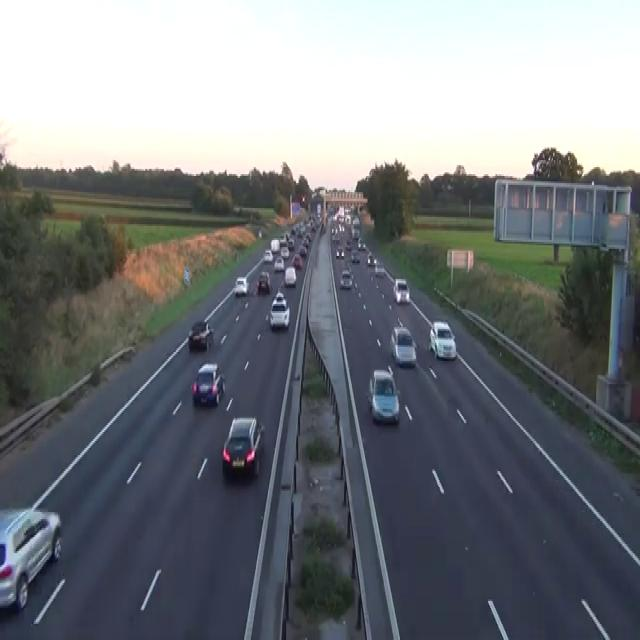Car: (0, 505, 62, 611), (221, 414, 264, 476), (367, 368, 399, 423), (191, 361, 225, 405), (428, 320, 456, 359), (390, 326, 417, 366), (187, 320, 214, 350), (269, 299, 290, 329), (392, 277, 409, 304), (257, 270, 271, 294), (234, 276, 249, 295), (339, 268, 352, 288), (272, 290, 286, 308), (284, 267, 296, 286), (273, 256, 284, 272), (292, 252, 302, 268), (270, 236, 280, 252), (375, 262, 384, 276), (263, 249, 273, 261), (367, 252, 376, 265), (335, 245, 344, 258), (280, 245, 289, 258), (350, 251, 359, 263), (351, 226, 360, 238), (357, 238, 366, 249), (287, 236, 294, 249), (299, 245, 307, 256), (352, 215, 359, 226), (446, 183, 454, 192), (332, 234, 340, 243), (279, 235, 286, 245), (345, 238, 351, 249), (300, 194, 305, 204), (258, 230, 262, 238)
